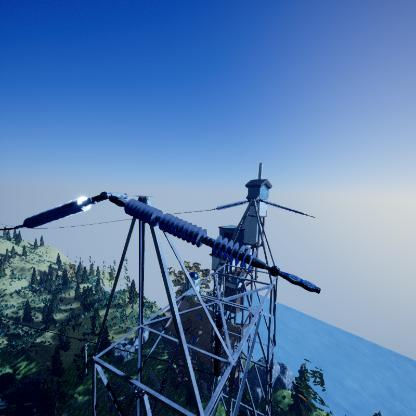insulator: (123, 197, 261, 268), (22, 195, 92, 228)
